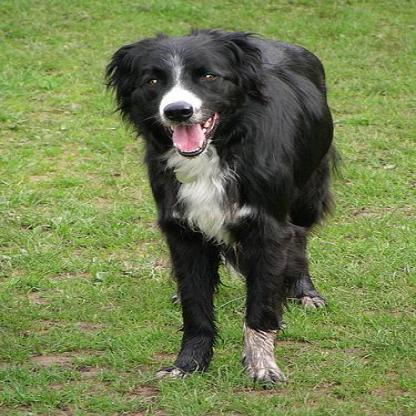collie: (101, 26, 345, 388)
